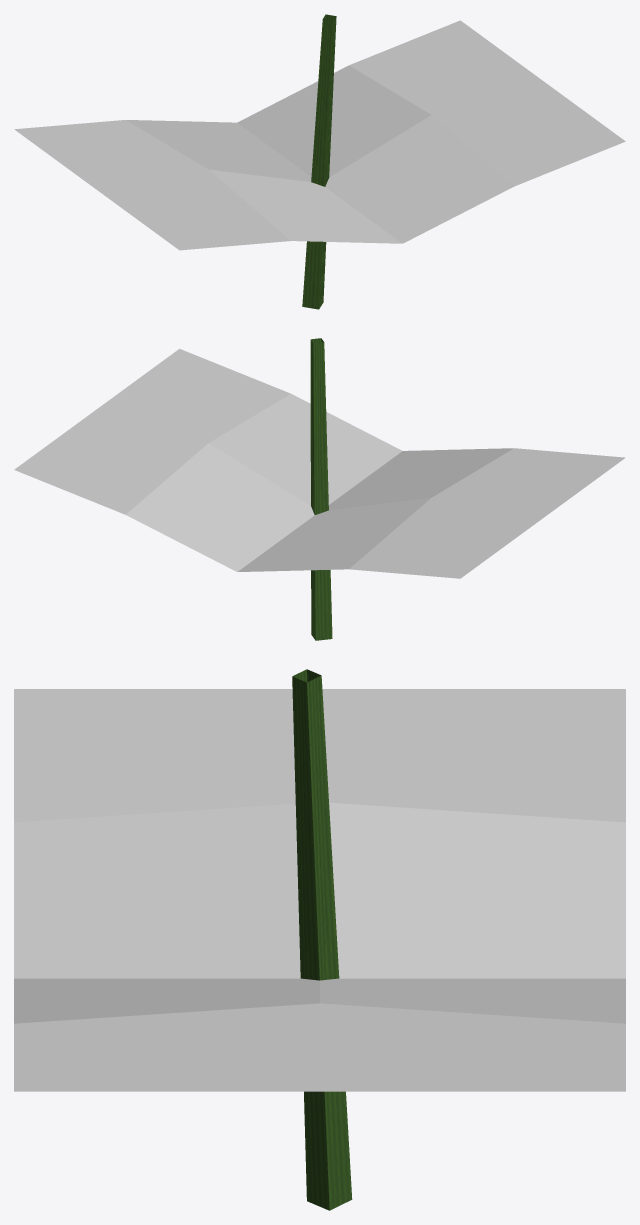
The model's file is plant_0_0_0.obj.
3 views of the same model, one above another, from view 1: azimuth 30°, elevation 25°; view 2: azimuth 150°, elevation 25°; view 3: azimuth 270°, elevation 25° (orthographic). The views are drawn at different scales.
Visible parts, largest first — view 1: model; view 2: model; view 3: model.
Part boxes in pixels (<box>): model: <box>14,14,625,309</box>; model: <box>14,338,625,640</box>; model: <box>14,669,625,1210</box>.
Size of the model in its own units: 0.2627 by 0.1629 by 0.1688.
